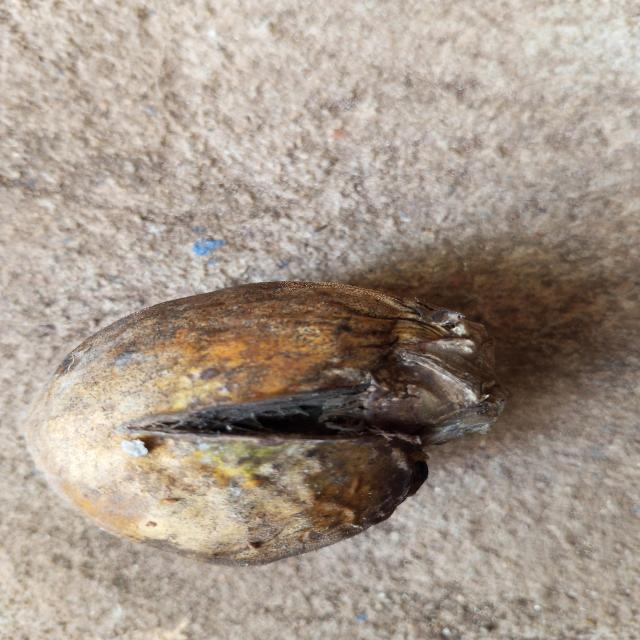damaged: (30, 282, 507, 564)
